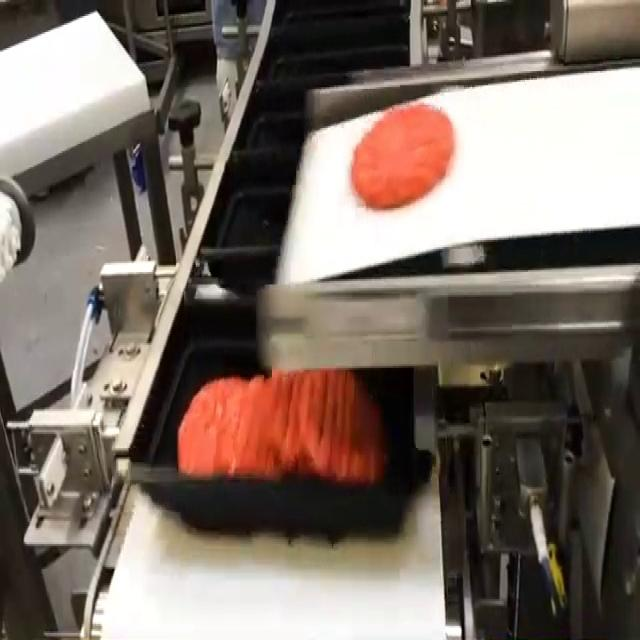4-hamburguer: (178, 370, 385, 482)
